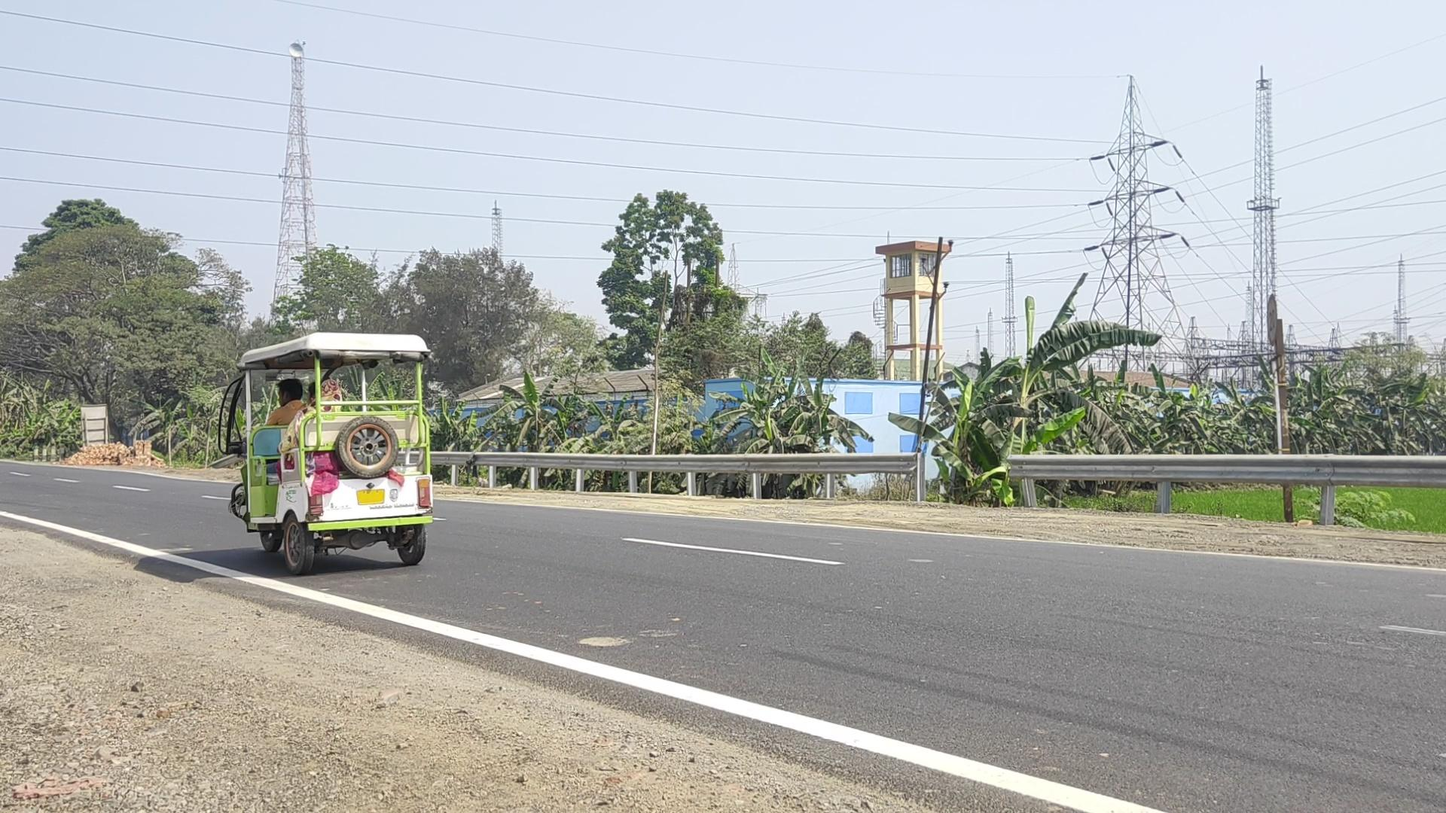Auto: (217, 331, 435, 575)
